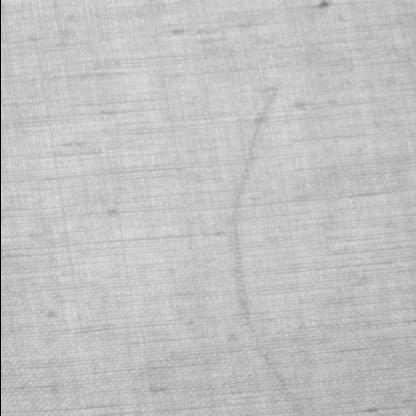objects: (222, 86, 307, 415)
